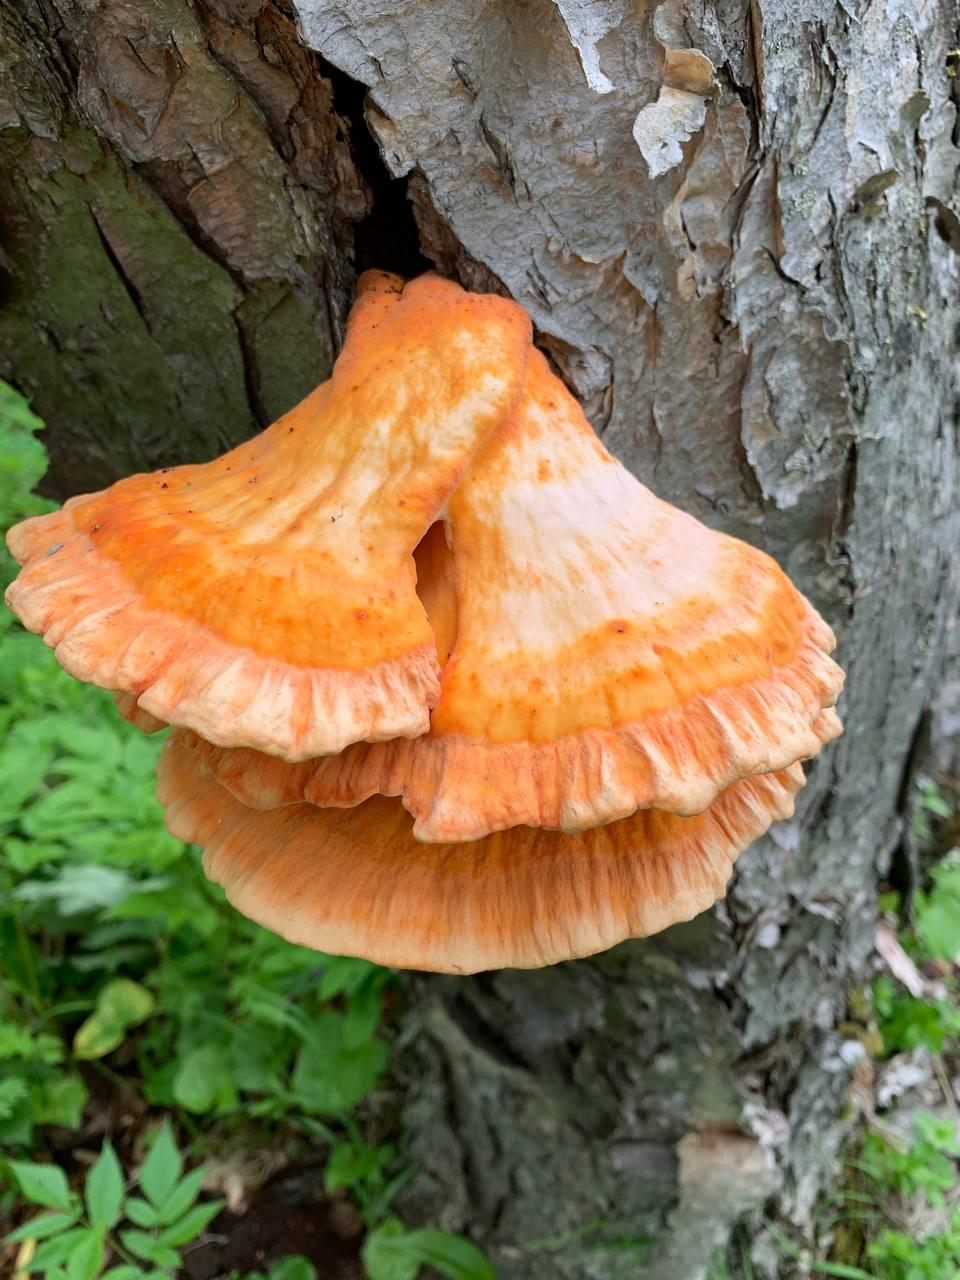Sulphur-yellow tinder fungus: (0, 265, 855, 997)
